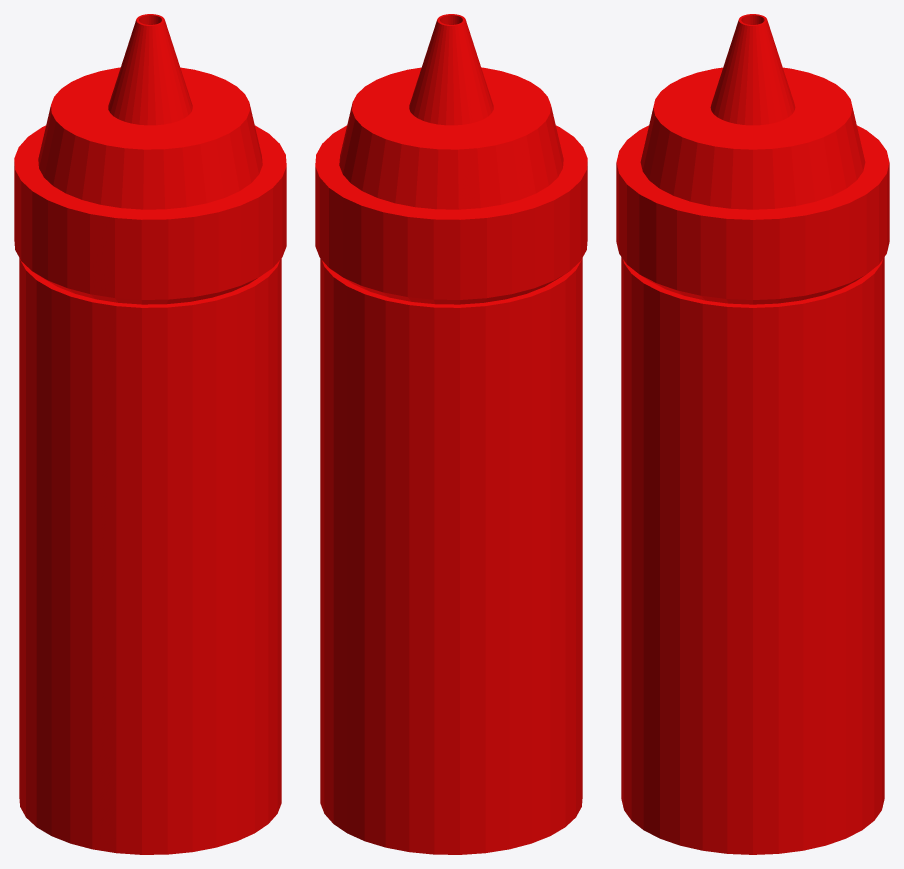
The model's file is DressingBottle.fbx.
3 renders of one model, left to right at view 1: azimuth 30°, elevation 25°; view 2: azimuth 150°, elevation 25°; view 3: azimuth 270°, elevation 25°, orthographic.
Visible parts, largest first — view 1: Cylinder; view 2: Cylinder; view 3: Cylinder.
Boxes of the visible parts, x1,y1,x2,y2 form: Cylinder: [14, 14, 286, 854]; Cylinder: [315, 14, 587, 854]; Cylinder: [616, 14, 889, 854].
Bounding box in the file's own units: 208 × 654 × 208.
